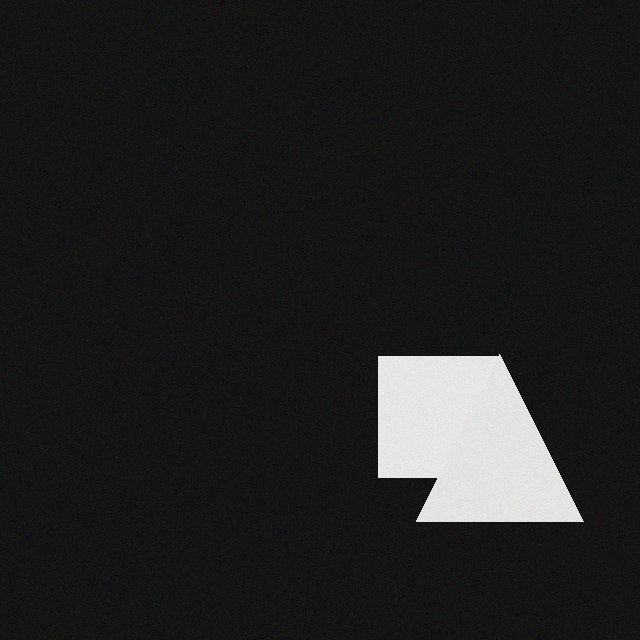square: (390, 358, 511, 479)
triangle: (428, 356, 595, 523)
